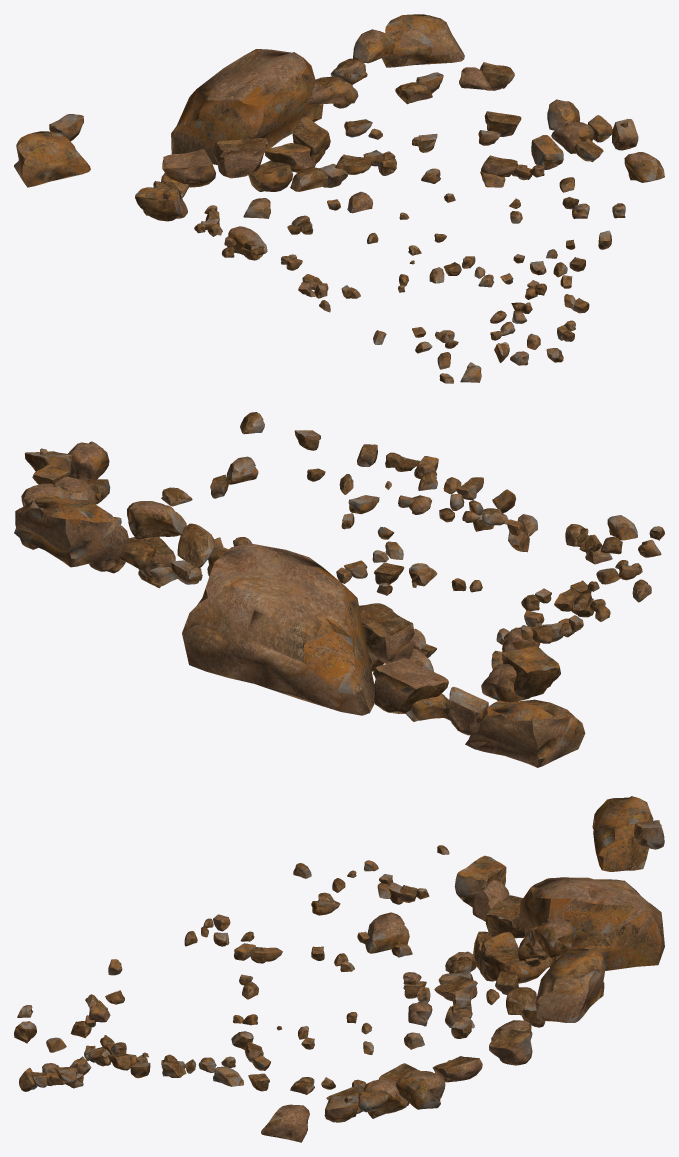
Rendered from Landscape3.fbx.
The picture shows the model from 3 angles, top to bottom: view 1: azimuth 30°, elevation 25°; view 2: azimuth 150°, elevation 25°; view 3: azimuth 270°, elevation 25°; orthographic projection. The views are drawn at different scales.
Parts seen in each view (by area): view 1: Landscape3; view 2: Landscape3; view 3: Landscape3.
Boxes of the visible parts, x1=… form: Landscape3: x1=14, y1=14, x2=664, y2=383; Landscape3: x1=14, y1=412, x2=664, y2=767; Landscape3: x1=14, y1=796, x2=664, y2=1142.
Size of the model in its own units: 12704 by 3931 by 11700.
